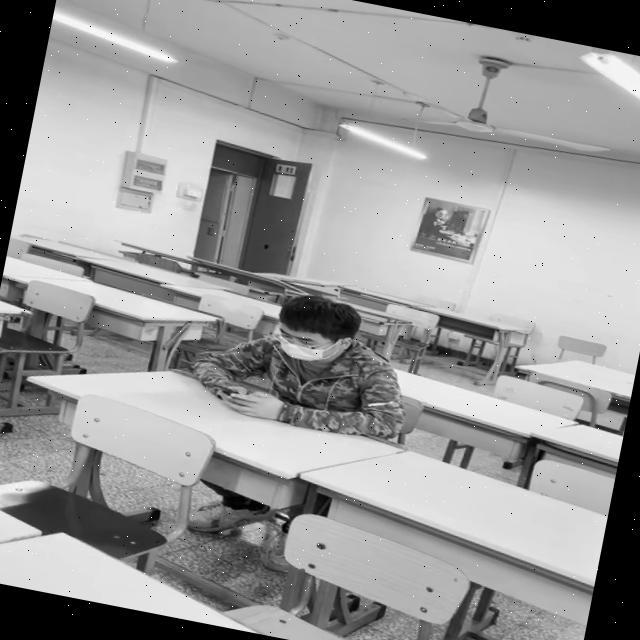phone: (183, 274, 422, 447)
